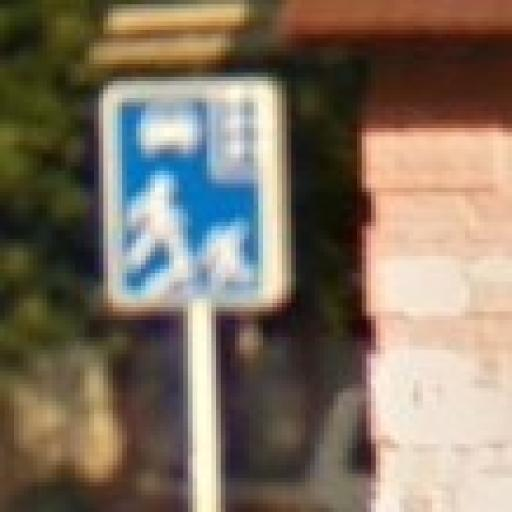traffic_sign: (100, 78, 292, 317)
